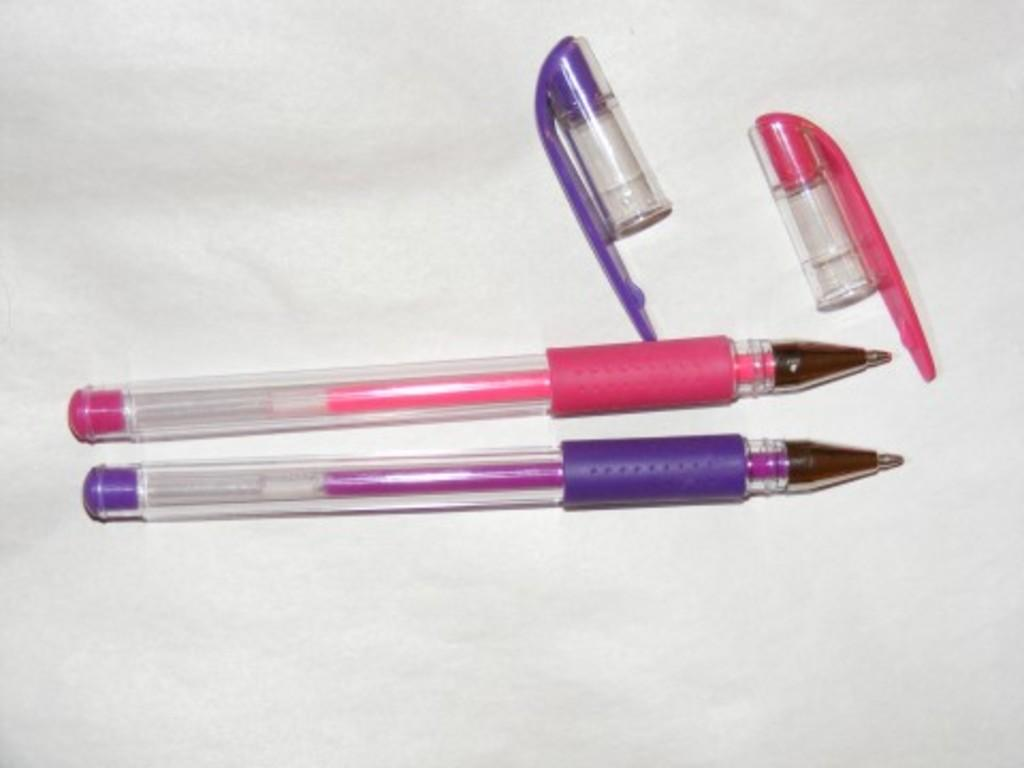pen: (64, 331, 902, 442), (85, 437, 915, 529)
